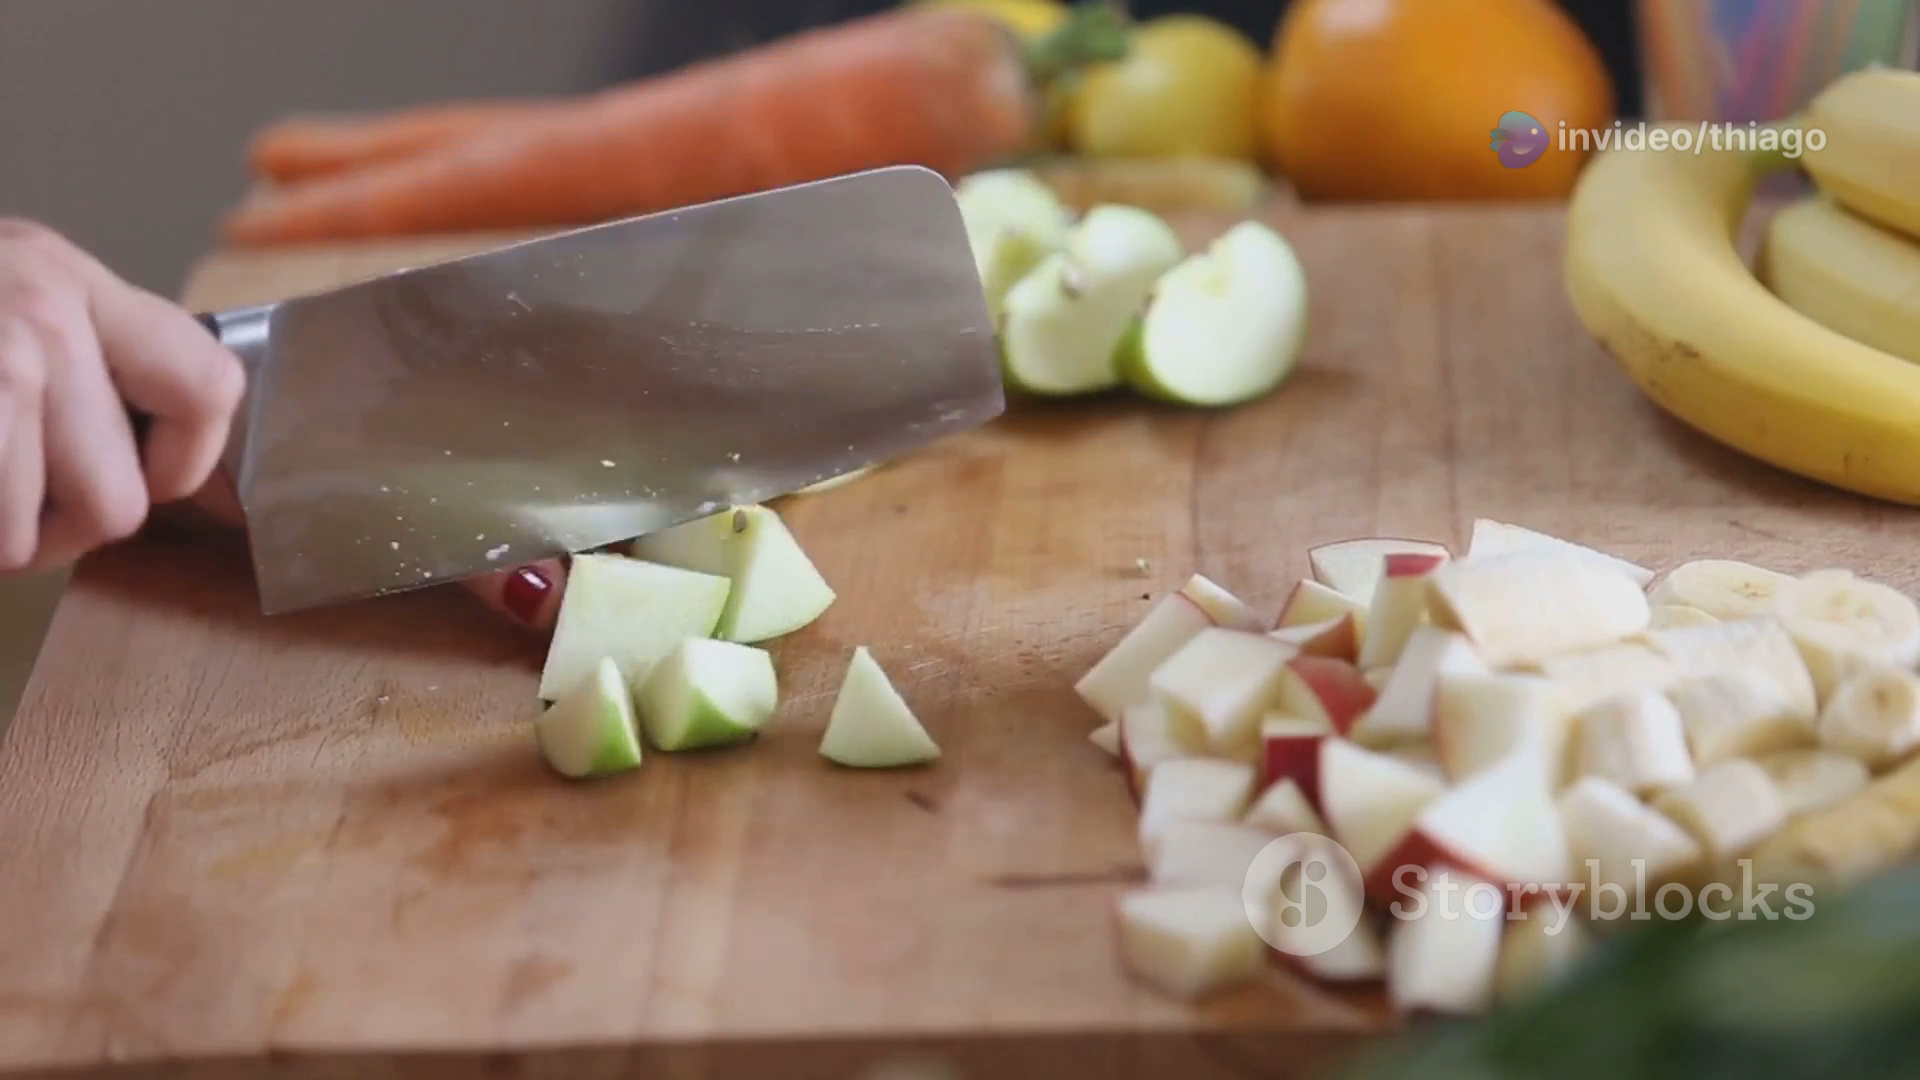cortante: (212, 164, 1006, 612)
